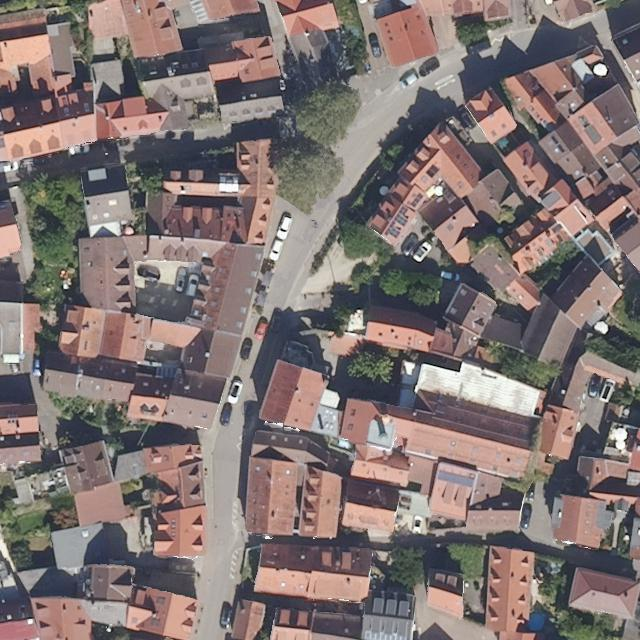PV: (382, 205, 410, 240), (364, 630, 410, 639), (409, 192, 424, 208)
